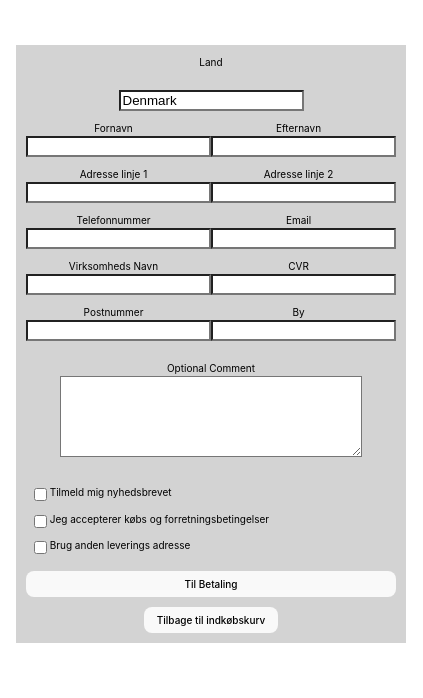
Test case: CheckoutForm Component Tests › validates form submission with invalid input
The width and height of the screenshot is (423, 698).
What coordinates should you click on to do the following:
click the button "Til Betaling"
I would click on:
 (211, 584)
Its box is [26,571,396,597].
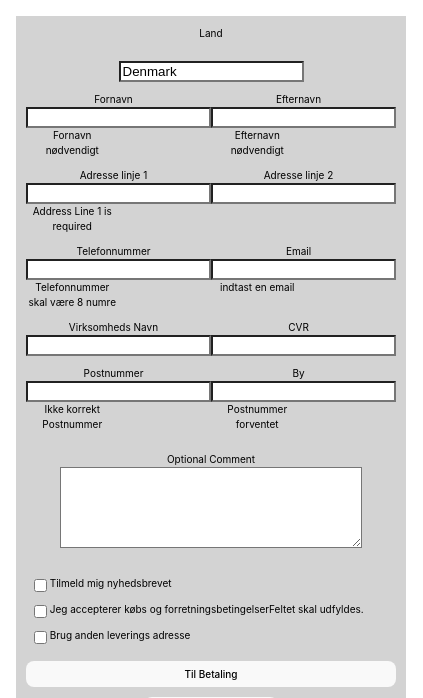
Expected: the text "Fornavn nødvendigt" is shown, [46,129,99,156]
Expected: the text "Efternavn nødvendigt" is shown, [231,129,284,156]
Expected: the text "Address Line 1 is required" is shown, [33,205,112,232]
